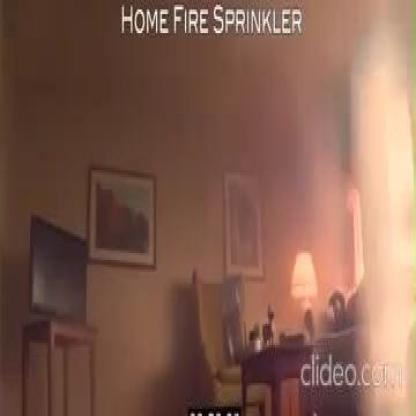fire: (346, 184, 364, 302)
